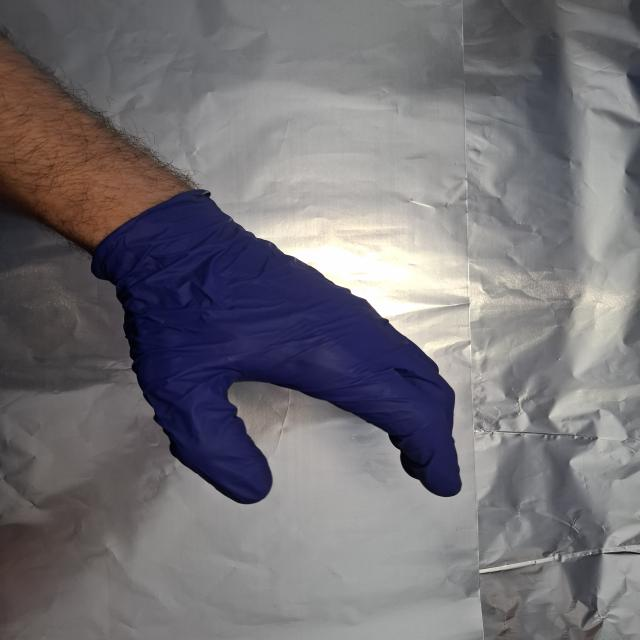glove_on: (106, 195, 468, 506)
